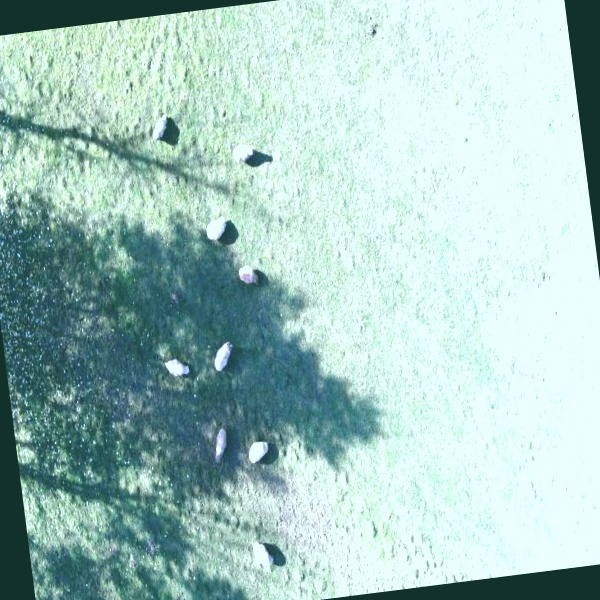sheep: (239, 518, 281, 582), (160, 350, 198, 406), (203, 332, 242, 383), (146, 98, 178, 153), (198, 207, 233, 256), (244, 425, 273, 473), (230, 125, 260, 168), (228, 259, 262, 296), (206, 420, 230, 470)
